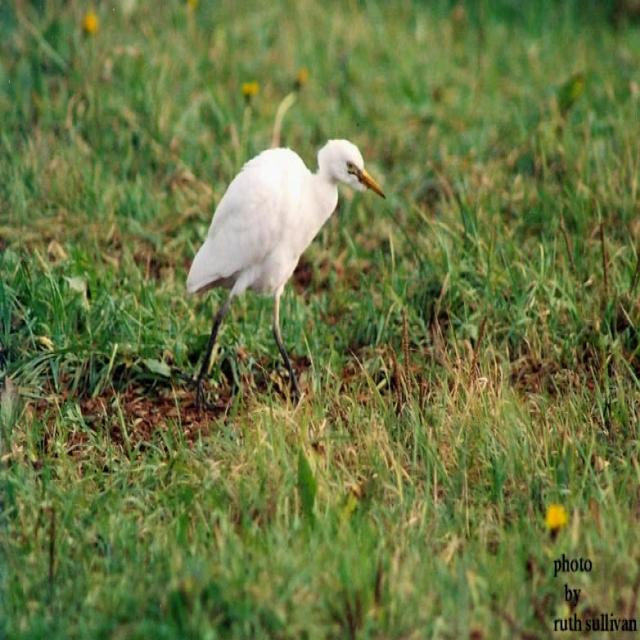bird: (181, 115, 390, 408)
